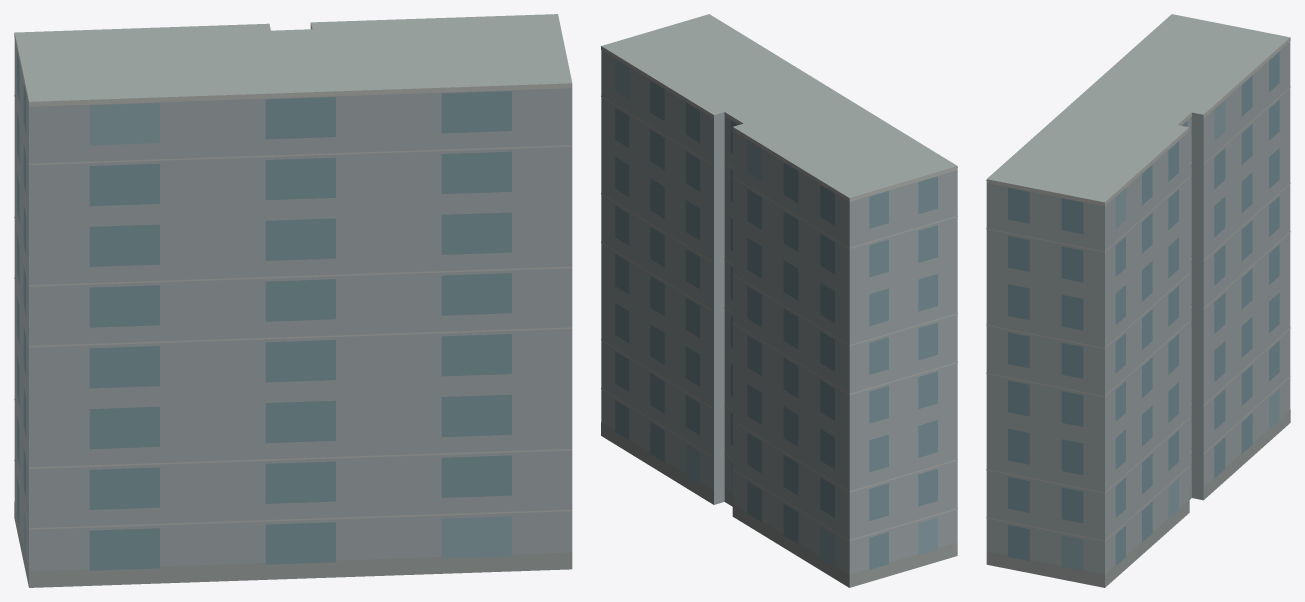
The model's file is survey-upis-32942713.glb.
3 views of the same model, side by side, from view 1: azimuth 30°, elevation 25°; view 2: azimuth 150°, elevation 25°; view 3: azimuth 270°, elevation 25° (orthographic). The views are drawn at different scales.
Parts seen in each view (by area): view 1: survey-upis-32942713.tmp; view 2: survey-upis-32942713.tmp; view 3: survey-upis-32942713.tmp.
Part boxes in pixels (x1,y1,x2,y2): survey-upis-32942713.tmp: (14, 14, 572, 587); survey-upis-32942713.tmp: (601, 14, 957, 587); survey-upis-32942713.tmp: (986, 14, 1290, 587).
Size of the model in its own units: 25.6 by 24.4 by 17.45.
